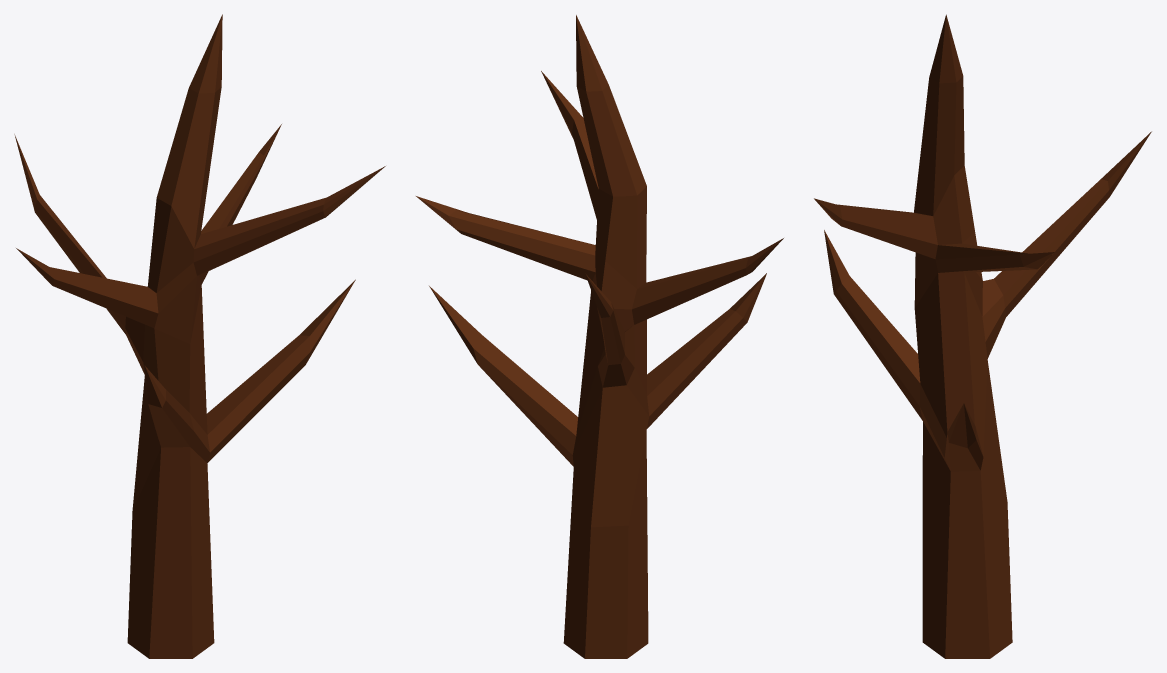
File: T_DeadTree2.fbx
3 renders of one model, left to right at view 1: azimuth 30°, elevation 25°; view 2: azimuth 150°, elevation 25°; view 3: azimuth 270°, elevation 25°, orthographic. The views are drawn at different scales.
Parts seen in each view (by area): view 1: Cylinder; view 2: Cylinder; view 3: Cylinder.
Part boxes in pixels (left/top/right/bottom): Cylinder: left=14, top=14, right=385, bottom=658; Cylinder: left=416, top=15, right=783, bottom=658; Cylinder: left=814, top=14, right=1151, bottom=658.
Bounding box in the file's own units: 3.86 × 6.56 × 3.1.
